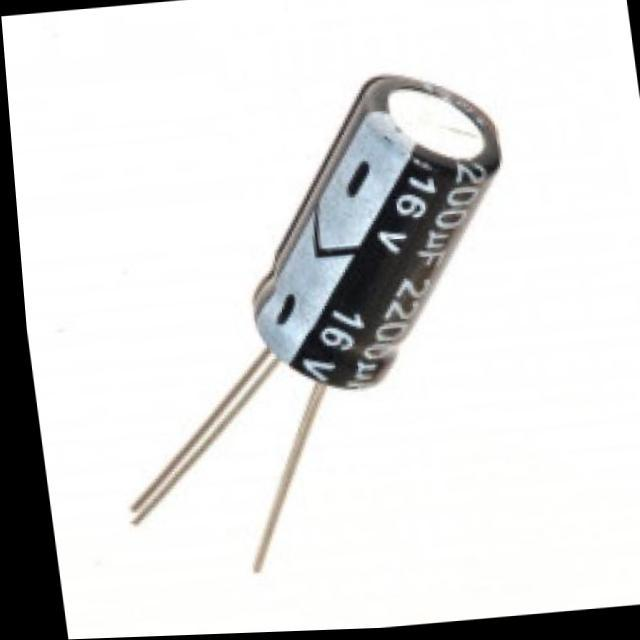Capacitor: (191, 36, 567, 449)
